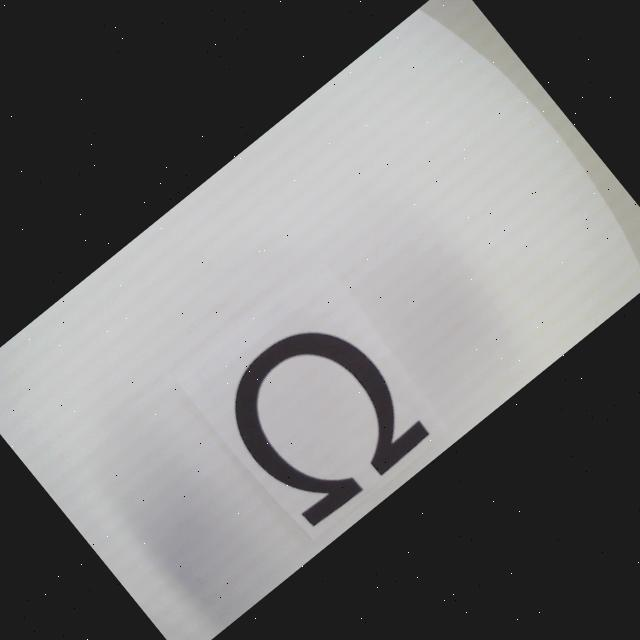OMEGA: (206, 302, 431, 530)
